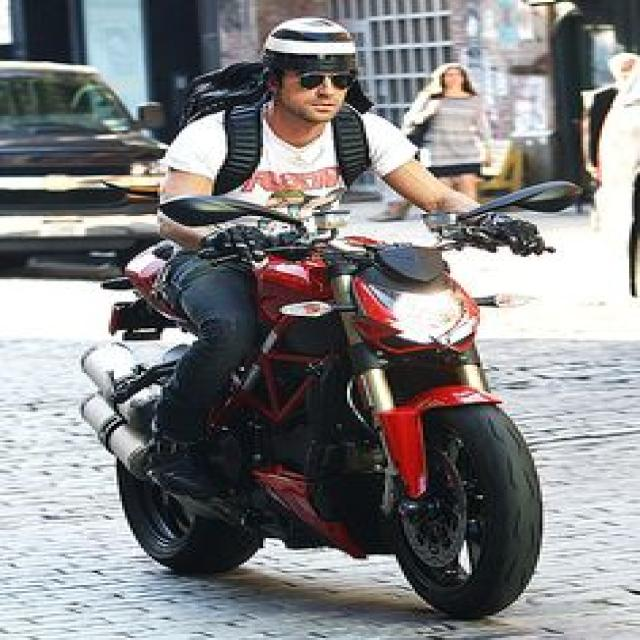helmet: (251, 10, 373, 114)
